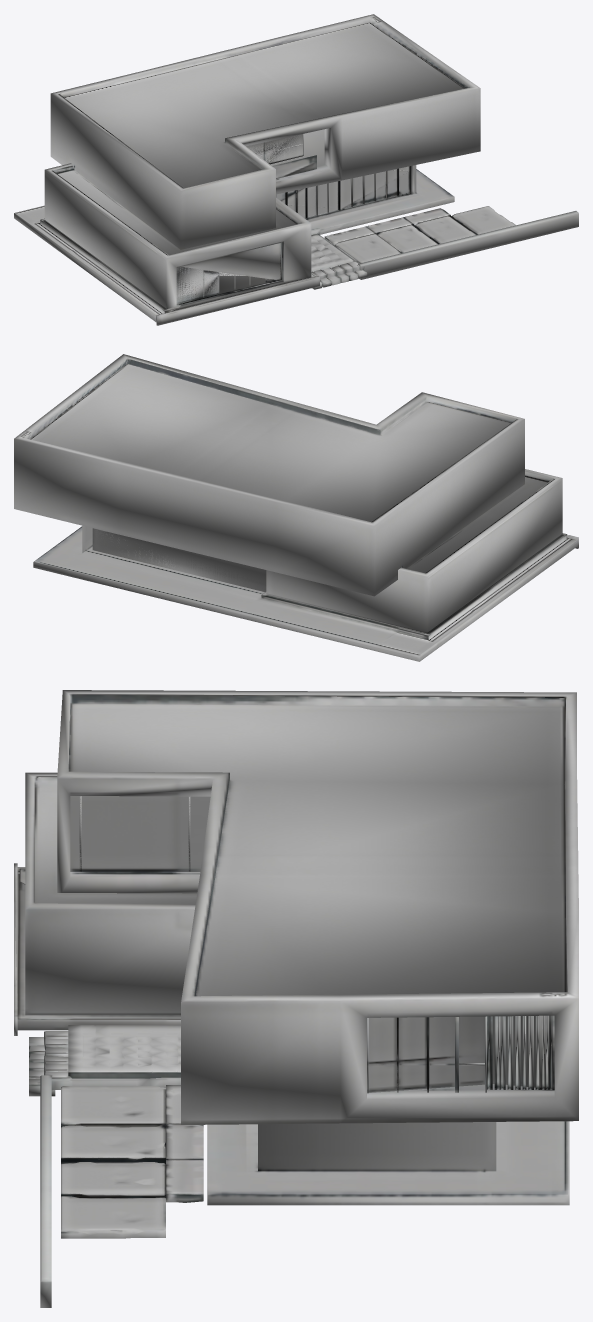
3 views of the same model, one above another, from view 1: azimuth 30°, elevation 25°; view 2: azimuth 150°, elevation 25°; view 3: azimuth 270°, elevation 25° (orthographic). The views are drawn at different scales.
Parts seen in each view (by area): view 1: tripo_node_725662cc-86e6-4dd5-8ba9-8676ceb36cac; view 2: tripo_node_725662cc-86e6-4dd5-8ba9-8676ceb36cac; view 3: tripo_node_725662cc-86e6-4dd5-8ba9-8676ceb36cac.
Part boxes in pixels (bbox=[...]): tripo_node_725662cc-86e6-4dd5-8ba9-8676ceb36cac: bbox=[14, 14, 578, 325]; tripo_node_725662cc-86e6-4dd5-8ba9-8676ceb36cac: bbox=[14, 354, 578, 661]; tripo_node_725662cc-86e6-4dd5-8ba9-8676ceb36cac: bbox=[14, 690, 578, 1307].
Bounding box in the file's own units: 0.998 × 0.2832 × 0.5879.
1 material, 1 textured.
